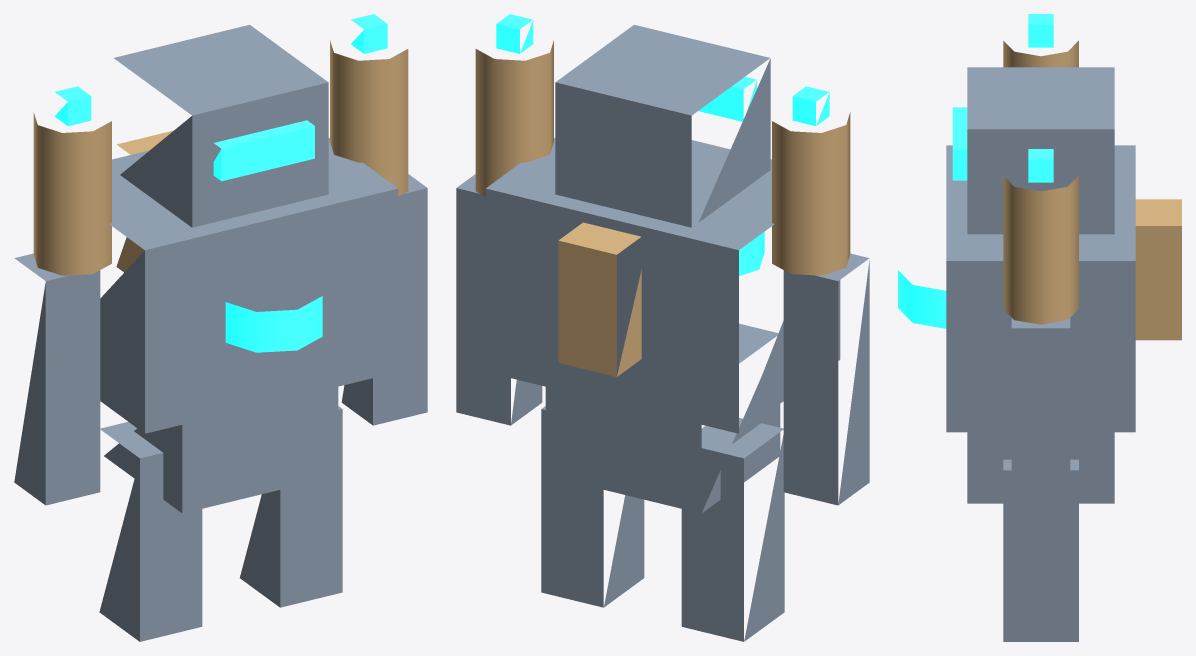
File: golem_galvanic.glb
3 renders of one model, left to right at view 1: azimuth 30°, elevation 25°; view 2: azimuth 150°, elevation 25°; view 3: azimuth 270°, elevation 25°, orthographic. The views are drawn at different scales.
Parts seen in each view (by area): view 1: GalvanicBody, GalvanicCoils, GalvanicGlow; view 2: GalvanicBody, GalvanicCoils, GalvanicGlow; view 3: GalvanicBody, GalvanicCoils, GalvanicGlow.
Boxes of the visible parts, left/top/right/bottom form: GalvanicBody: left=14, top=24, right=427, bottom=641; GalvanicCoils: left=33, top=40, right=408, bottom=275; GalvanicGlow: left=54, top=14, right=387, bottom=352; GalvanicBody: left=456, top=24, right=869, bottom=641; GalvanicCoils: left=475, top=40, right=850, bottom=376; GalvanicGlow: left=496, top=14, right=829, bottom=275; GalvanicBody: left=946, top=67, right=1135, bottom=641; GalvanicCoils: left=1003, top=40, right=1181, bottom=340; GalvanicGlow: left=898, top=14, right=1053, bottom=328.
Bounding box in the file's own units: 0.98 × 1.34 × 0.675.
